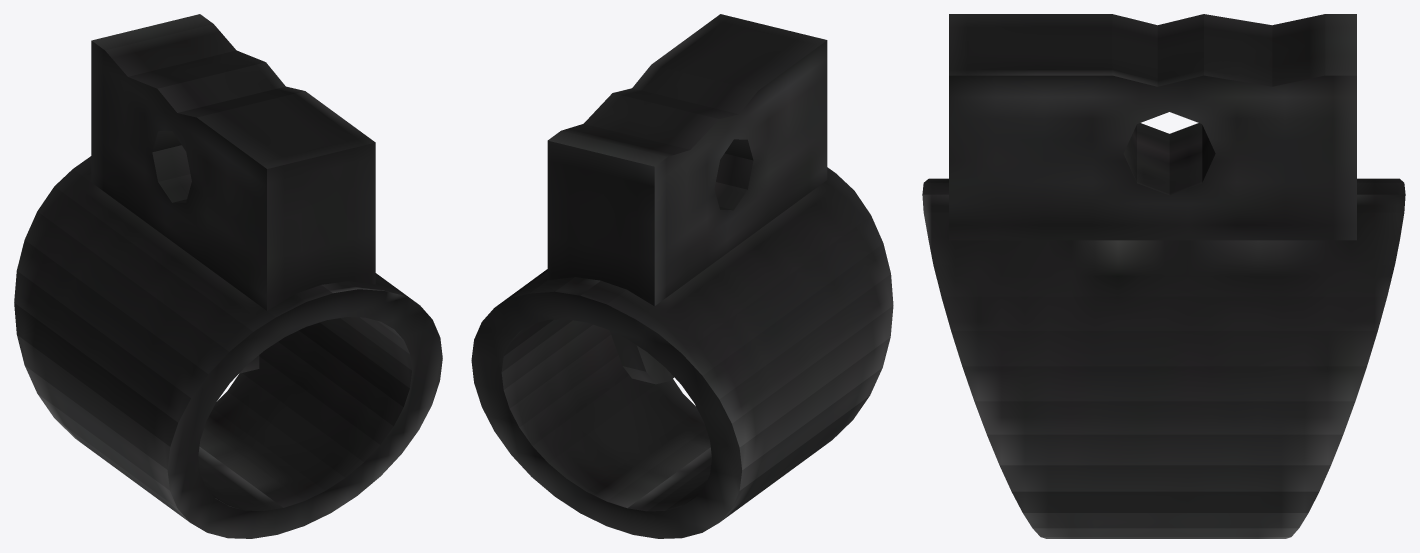
3 views of the same model, side by side, from view 1: azimuth 30°, elevation 25°; view 2: azimuth 150°, elevation 25°; view 3: azimuth 270°, elevation 25° (orthographic). The views are drawn at different scales.
Visible parts, largest first — view 1: TW_623166e08c43374ca1567195_PZ_Import; view 2: TW_623166e08c43374ca1567195_PZ_Import; view 3: TW_623166e08c43374ca1567195_PZ_Import.
Boxes of the visible parts, x1=… form: TW_623166e08c43374ca1567195_PZ_Import: x1=14, y1=14, x2=442, y2=538; TW_623166e08c43374ca1567195_PZ_Import: x1=471, y1=14, x2=893, y2=538; TW_623166e08c43374ca1567195_PZ_Import: x1=922, y1=14, x2=1405, y2=538.
Size of the model in its own units: 0.0113 by 0.0151 by 0.0165.
1 material, 1 textured.
